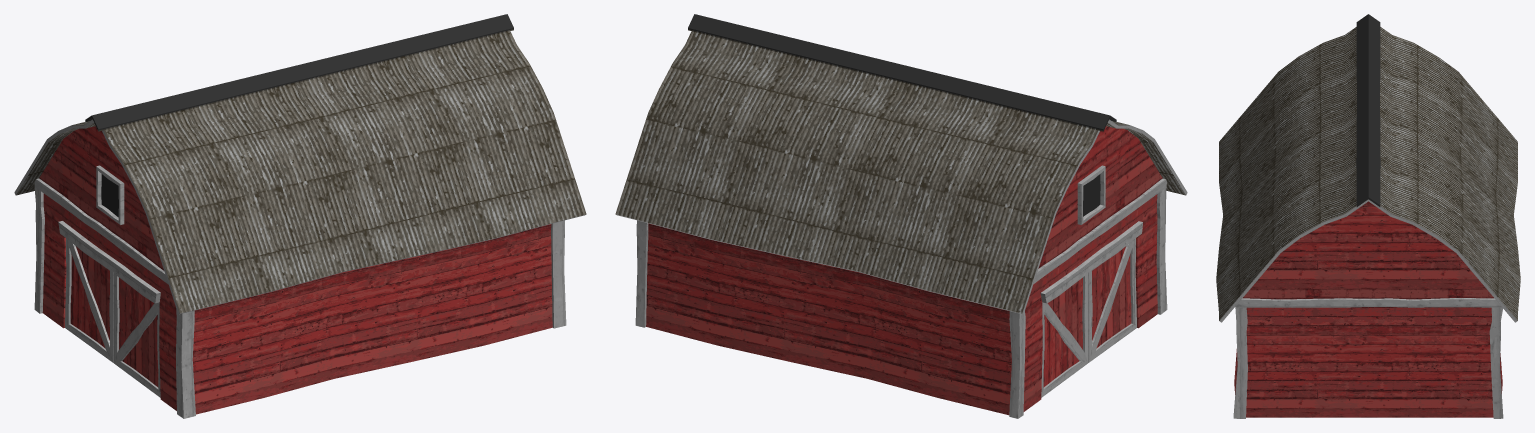
Rendered from celeiro.fbx.
3 views of the same model, side by side, from view 1: azimuth 30°, elevation 25°; view 2: azimuth 150°, elevation 25°; view 3: azimuth 270°, elevation 25° (orthographic). The views are drawn at different scales.
Visible parts, largest first — view 1: Celeiro; view 2: Celeiro; view 3: Celeiro.
Part boxes in pixels (x1,y1,x2,y2): Celeiro: (14, 14, 586, 418); Celeiro: (615, 14, 1187, 418); Celeiro: (1216, 14, 1520, 418).
Size of the model in its own units: 2797 by 1630 by 1966.
